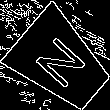N_SE: (30, 31, 92, 94)
